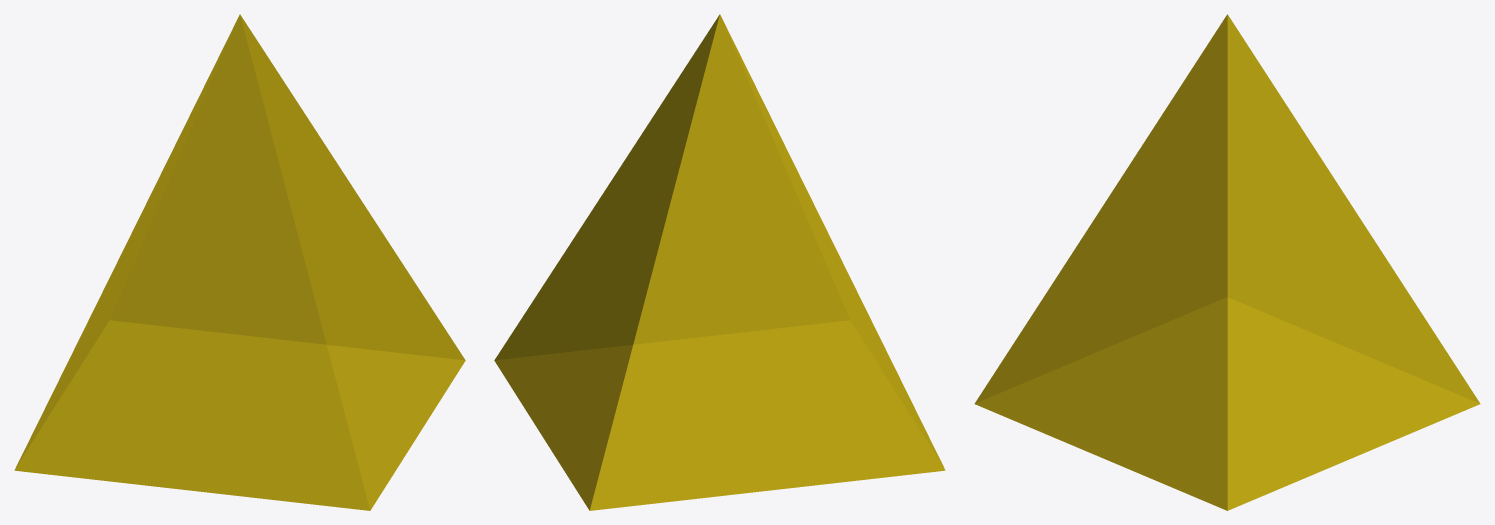
Rendered from arrow.fbx.
The picture shows the model from 3 angles, left to right: view 1: azimuth 30°, elevation 25°; view 2: azimuth 150°, elevation 25°; view 3: azimuth 270°, elevation 25°; orthographic projection. The views are drawn at different scales.
Visible parts, largest first — view 1: pPyramid1; view 2: pPyramid1; view 3: pPyramid1.
Boxes of the visible parts, x1,y1,x2,y2 form: pPyramid1: (14,14,465,510); pPyramid1: (494,14,945,510); pPyramid1: (974,14,1480,510).
Bounding box in the file's own units: 7.07 × 6.01 × 7.07.
